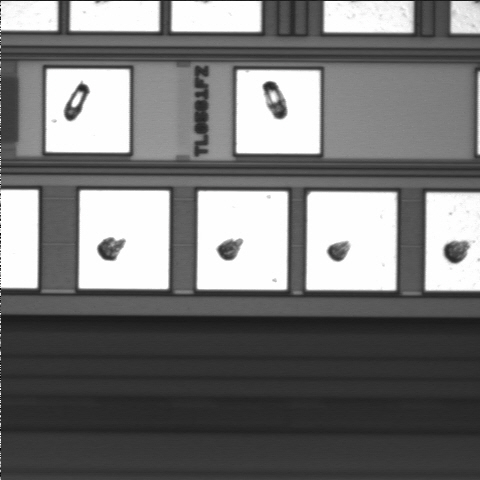pad: (197, 191, 288, 290), (306, 192, 397, 290), (79, 190, 169, 289), (236, 70, 320, 154), (46, 69, 130, 152)
